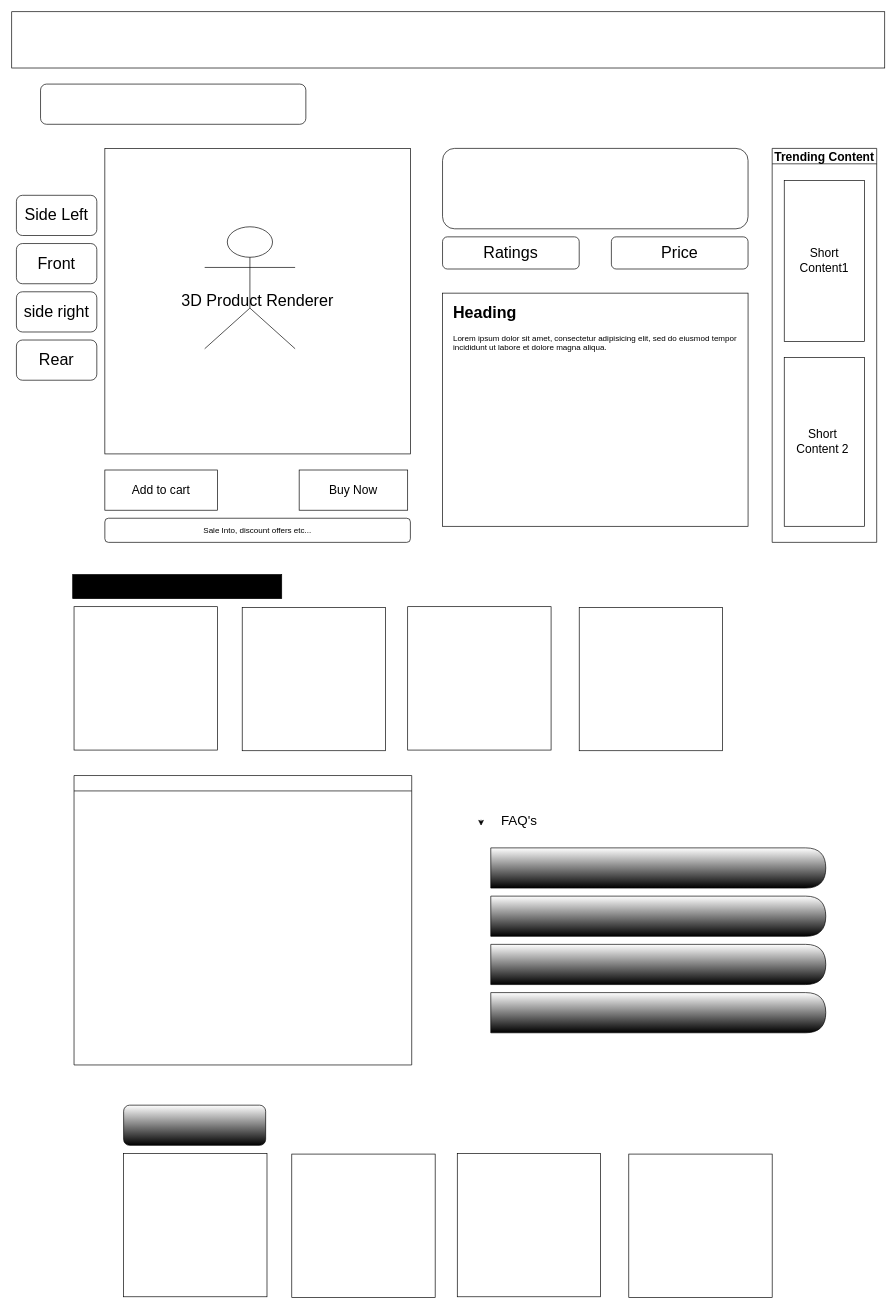
Image size: 896x1309. Some labels were removed from this diagram. The shapes that lost their labels are listed below. From the top down, each one's centre as x and y in pixels, then its label:
point (448, 39): Nav Bar
point (173, 103): Home> Catergory > Product Name
point (595, 188): Product Name
point (249, 287): Actor
point (177, 586): Review Corousel with Images
point (242, 920): Detailed Description
point (194, 1124): Similar Products
